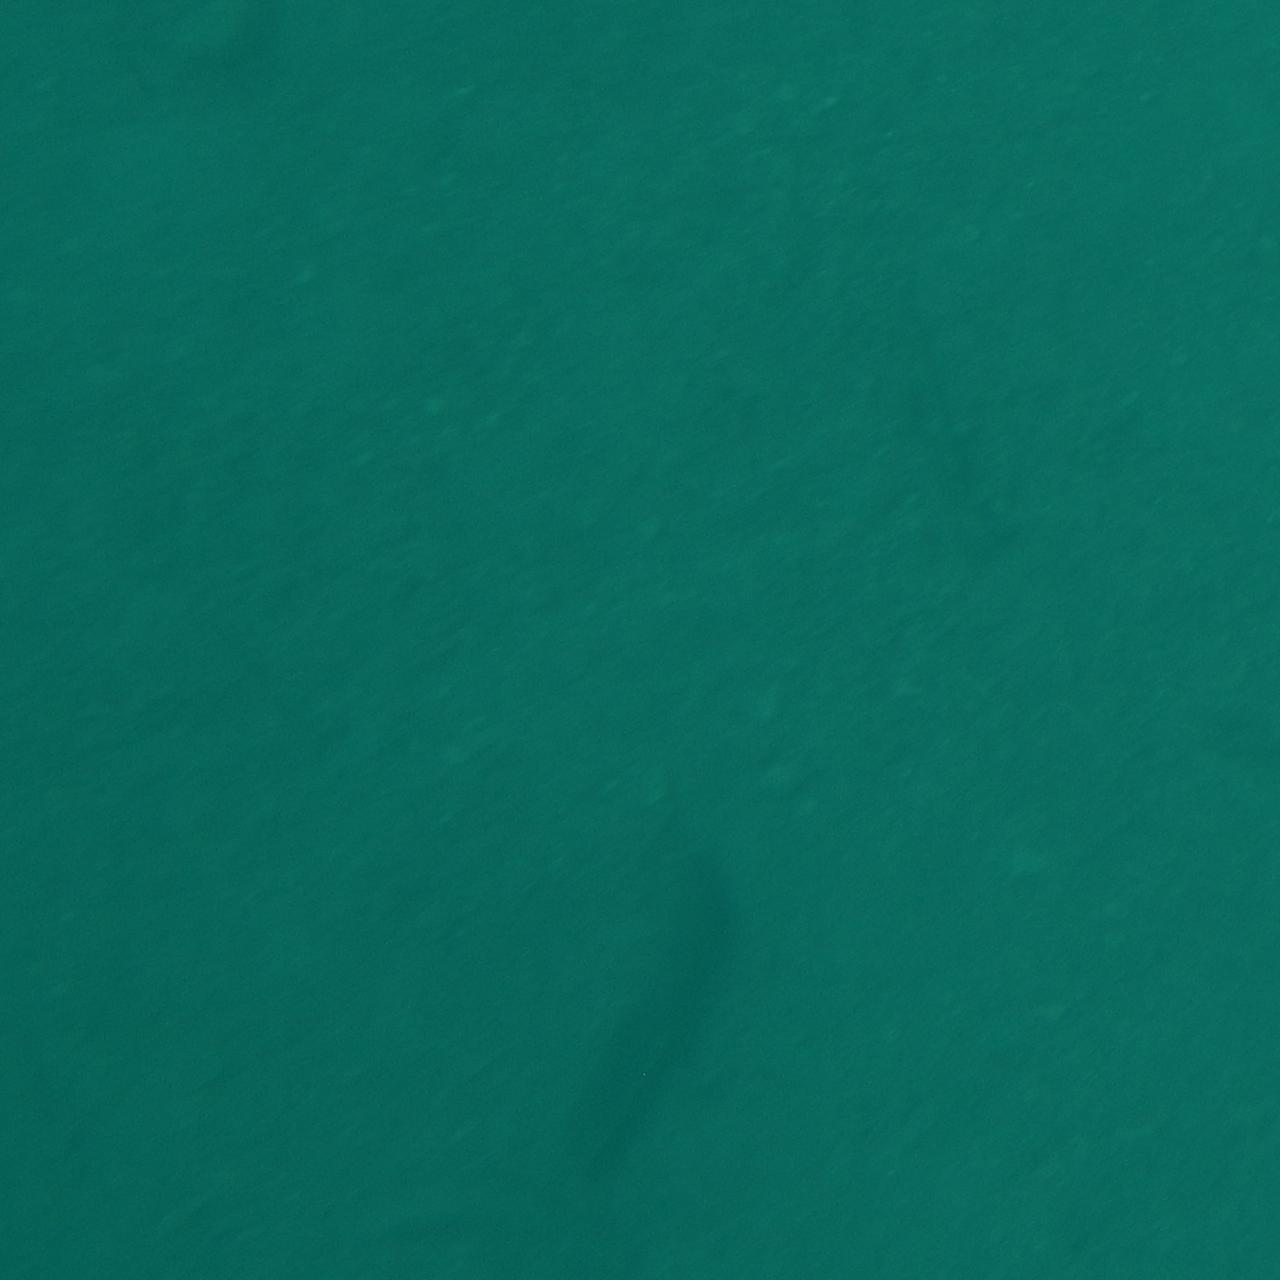Holothuria tubulosa: (544, 805, 736, 1257)
